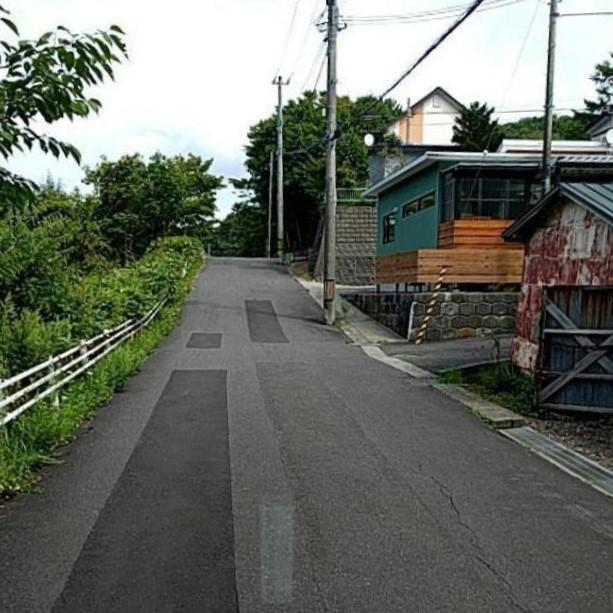Sambungan: (51, 369, 240, 613), (241, 298, 290, 343), (189, 332, 223, 353)
